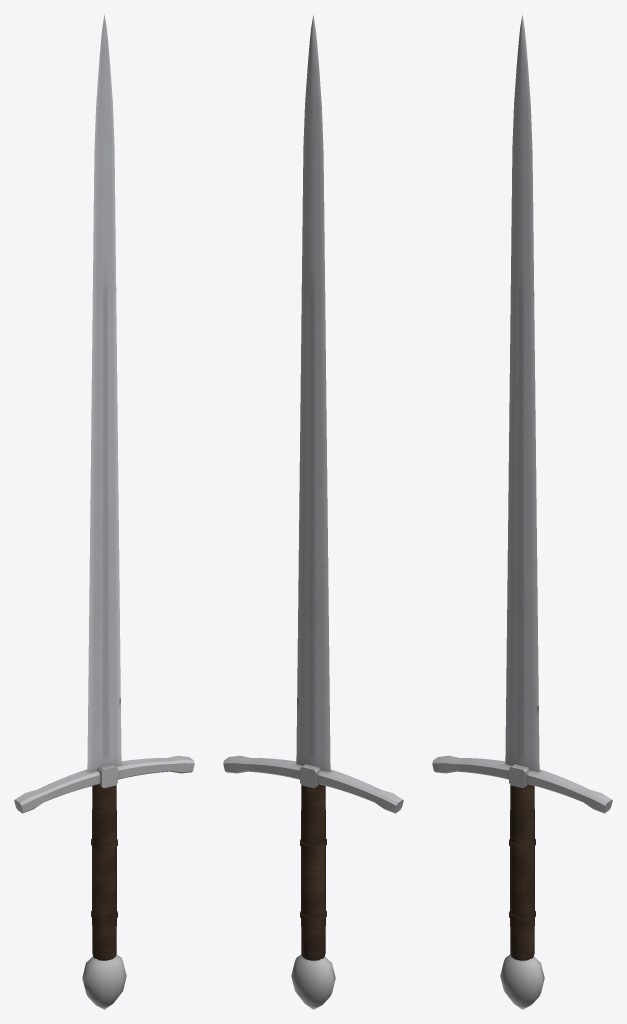
The model's file is twohander.glb.
The picture shows the model from 3 angles, left to right: view 1: azimuth 30°, elevation 25°; view 2: azimuth 150°, elevation 25°; view 3: azimuth 330°, elevation 25°; orthographic projection.
Visible parts, largest first — view 1: SM_V_twohander, SM_V_twohander_Faste; view 2: SM_V_twohander, SM_V_twohander_Faste; view 3: SM_V_twohander, SM_V_twohander_Faste.
Part boxes in pixels (left/top/right/bottom): SM_V_twohander: left=87, top=14, right=121, bottom=960; SM_V_twohander_Faste: left=14, top=755, right=194, bottom=1009; SM_V_twohander: left=296, top=14, right=330, bottom=960; SM_V_twohander_Faste: left=223, top=755, right=403, bottom=1009; SM_V_twohander: left=505, top=14, right=539, bottom=960; SM_V_twohander_Faste: left=432, top=755, right=612, bottom=1009.
Size of the model in its own units: 0.3047 by 1.66 by 0.054.
Materials: 1 (1 with a texture image).
